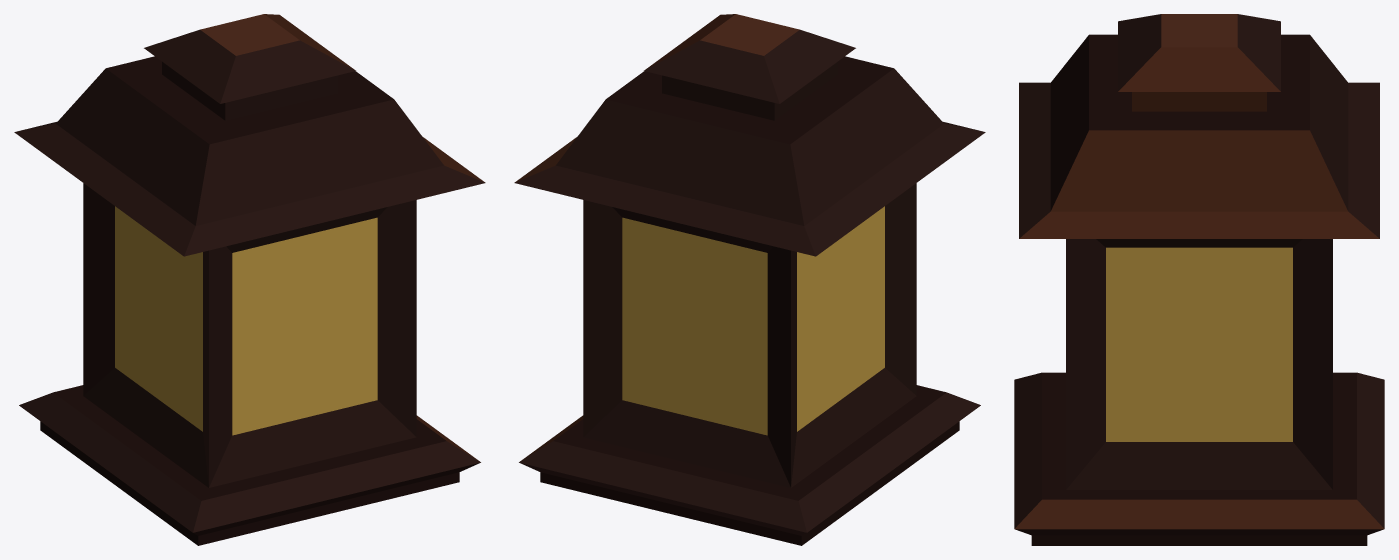
Rendered from LamparinaArma.fbx.
The picture shows the model from 3 angles, left to right: view 1: azimuth 30°, elevation 25°; view 2: azimuth 150°, elevation 25°; view 3: azimuth 270°, elevation 25°; orthographic projection. The views are drawn at different scales.
Parts seen in each view (by area): view 1: LamparinaArma; view 2: LamparinaArma; view 3: LamparinaArma.
Boxes of the visible parts, <box> form: LamparinaArma: <box>14,14,485,545</box>; LamparinaArma: <box>514,14,985,545</box>; LamparinaArma: <box>1014,14,1384,545</box>.
Bounding box in the file's own units: 30 × 40 × 30.
